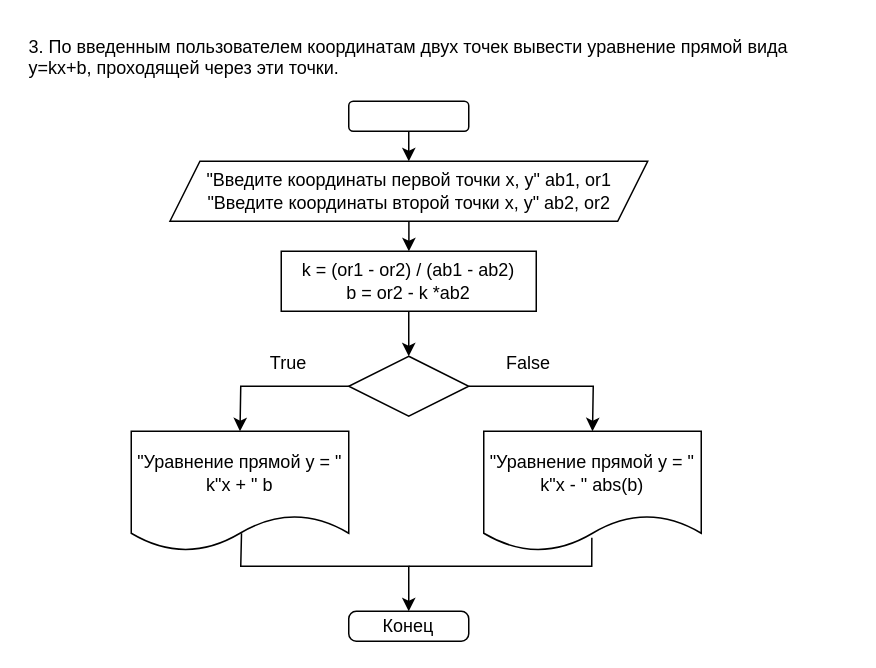
The diagram is 876 pixels wide and 668 high, and some of its shapes have lost their labels. Here are the shapes that lost their labels. From the top down, the centre of each, then its label:
At point (408, 115): "Начало".
At point (408, 385): "b > 0".
